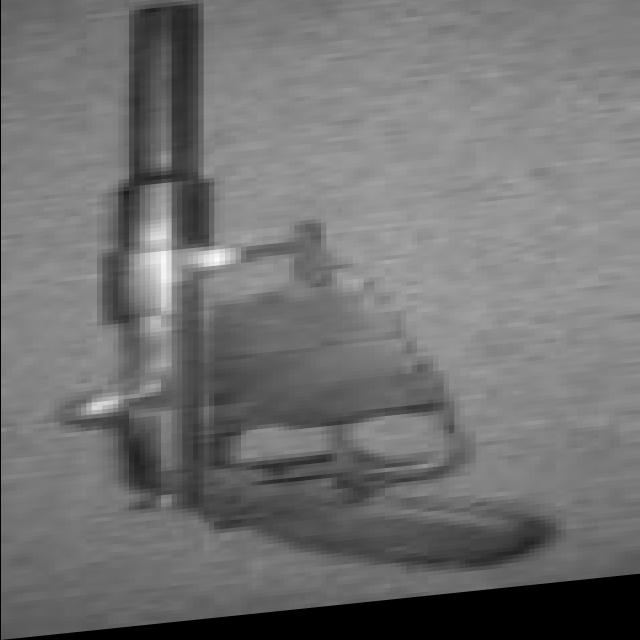handgun: (42, 0, 544, 633)
